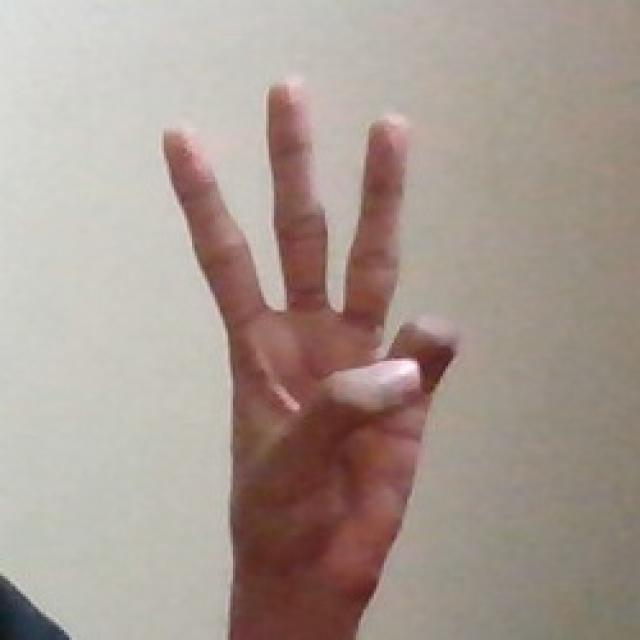Numeric-6: (172, 66, 480, 622)
